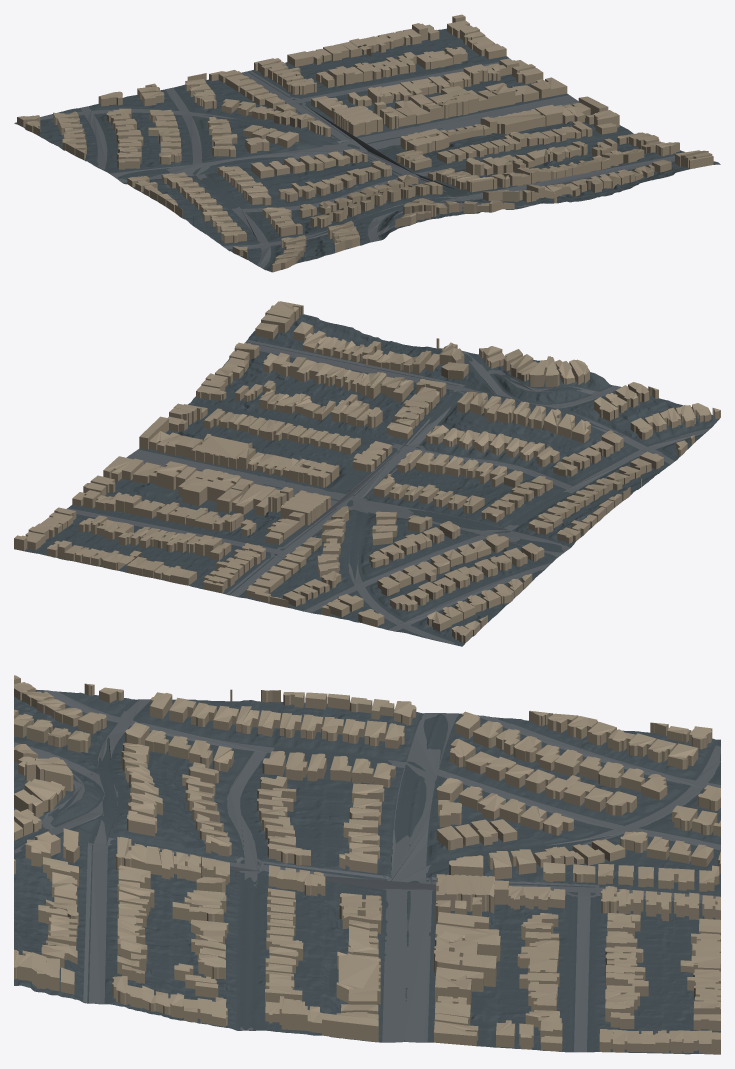
The model's file is epsg26910-1427-10875.lod0.glb.
3 views of the same model, one above another, from view 1: azimuth 30°, elevation 25°; view 2: azimuth 150°, elevation 25°; view 3: azimuth 270°, elevation 25° (orthographic). The views are drawn at different scales.
Visible parts, largest first — view 1: epsg26910-1427-10875-lod0; view 2: epsg26910-1427-10875-lod0; view 3: epsg26910-1427-10875-lod0.
Part boxes in pixels (left/top/right/bottom): epsg26910-1427-10875-lod0: left=14, top=14, right=720, bottom=272; epsg26910-1427-10875-lod0: left=14, top=301, right=720, bottom=646; epsg26910-1427-10875-lod0: left=14, top=675, right=720, bottom=1054.
Bounding box in the file's own units: 384 × 62.05 × 384.
